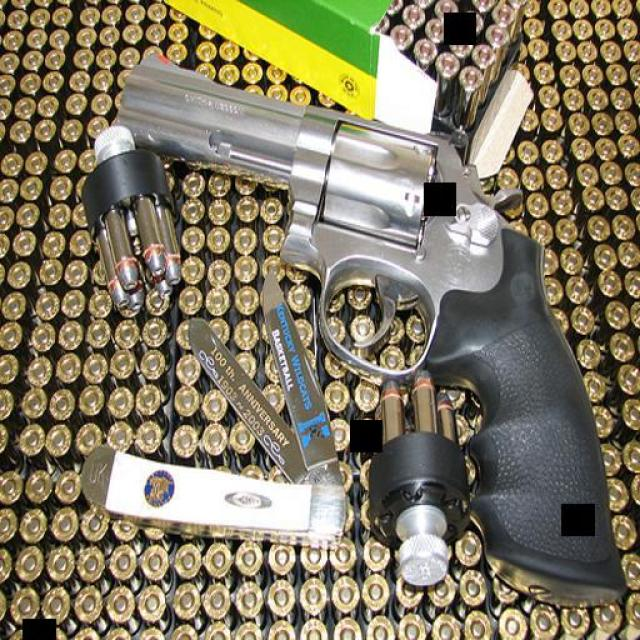gun: (110, 47, 626, 608)
